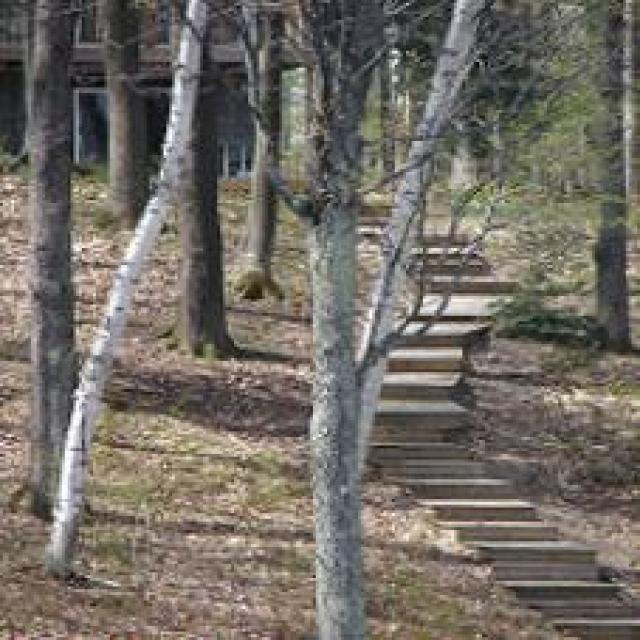downstair: (385, 407, 619, 585)
